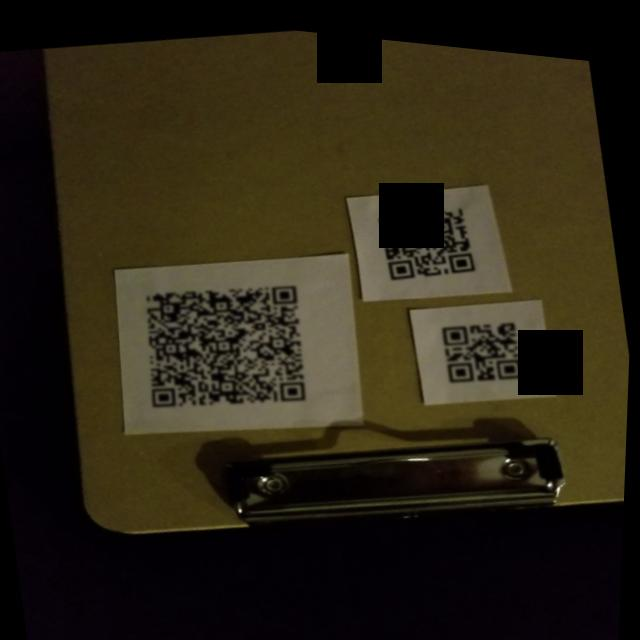QR_CODE: (125, 254, 330, 439), (364, 175, 492, 291), (426, 288, 545, 399)
